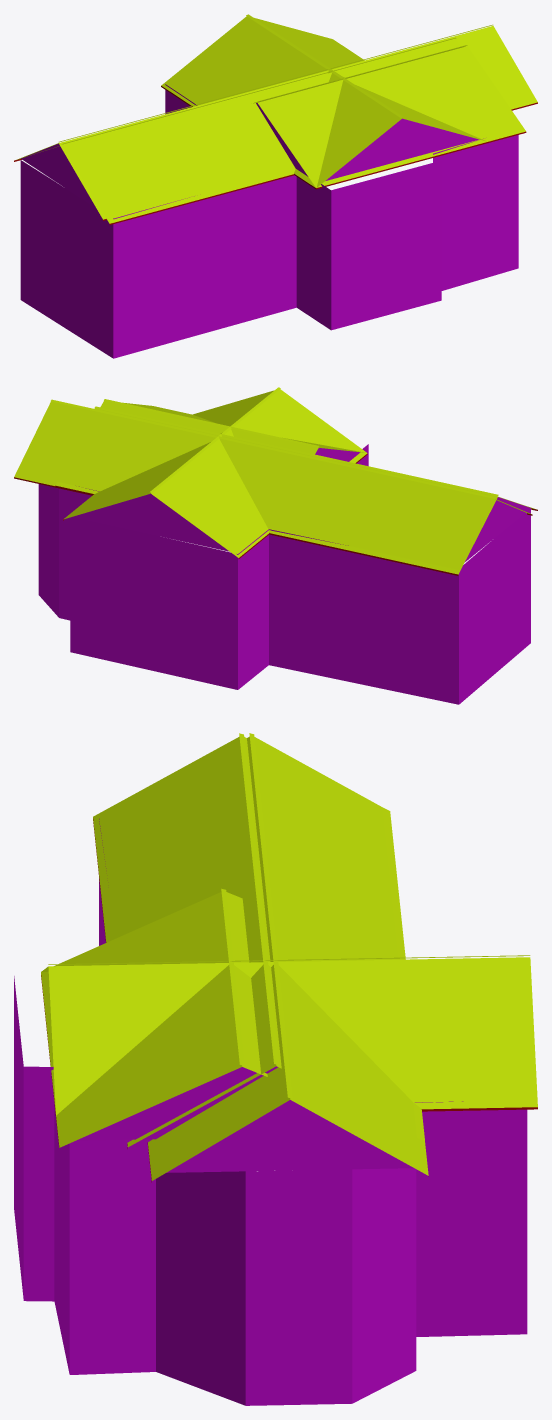
File: ces_38.glb
3 renders of one model, top to bottom at view 1: azimuth 30°, elevation 25°; view 2: azimuth 150°, elevation 25°; view 3: azimuth 270°, elevation 25°, orthographic. The views are drawn at different scales.
Visible parts, largest first — view 1: ces_38; view 2: ces_38; view 3: ces_38.
Part boxes in pixels (box(x1,y1,x2,y2)): ces_38: box(14, 14, 537, 358); ces_38: box(14, 387, 537, 704); ces_38: box(14, 733, 537, 1405).
Bounding box in the file's own units: 42.76 × 16.76 × 25.61.
